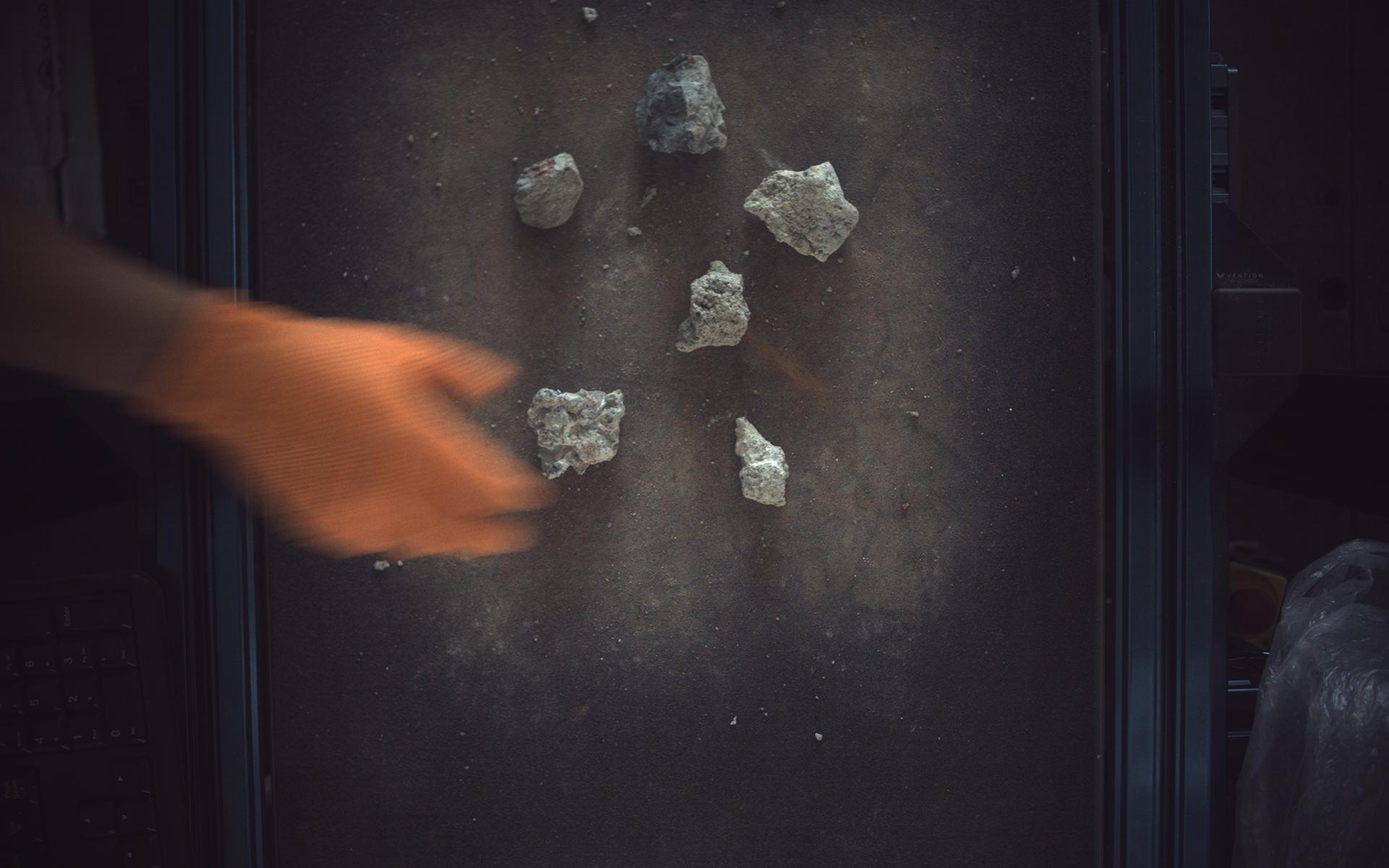concrete: (745, 161, 860, 262), (637, 52, 729, 153), (528, 388, 626, 480), (677, 260, 752, 352), (514, 152, 584, 228), (736, 417, 790, 507)
